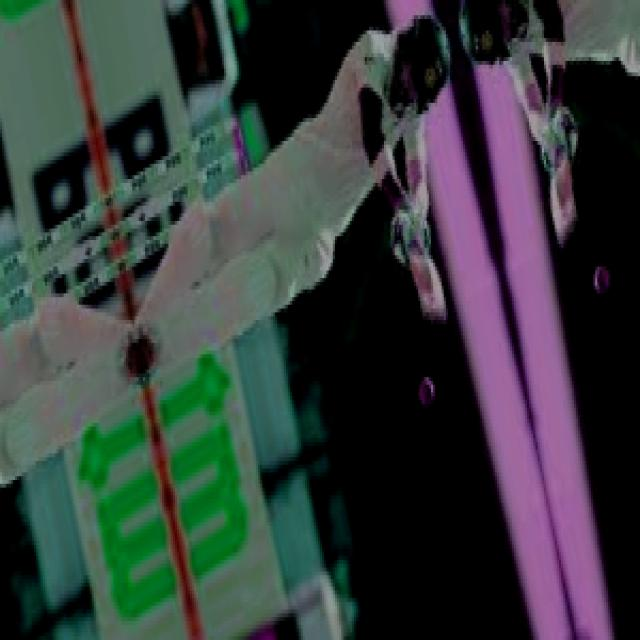toe: (417, 290, 447, 325)
